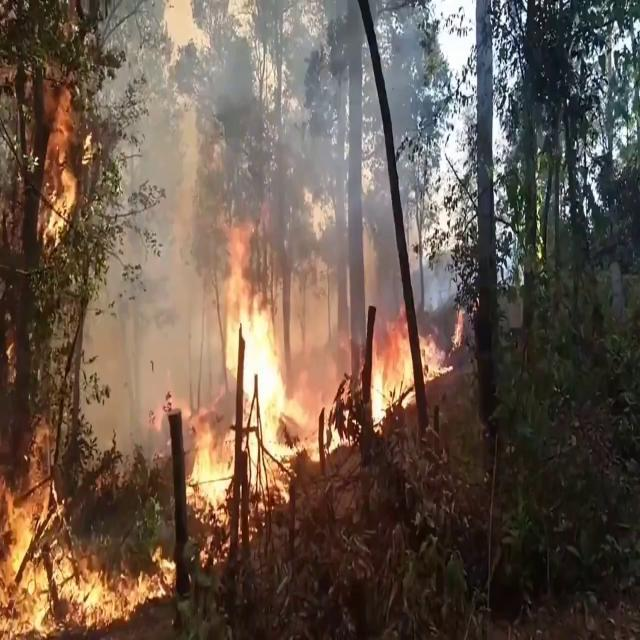Fire: (0, 401, 174, 635), (188, 248, 308, 539), (32, 83, 100, 260), (368, 312, 452, 427)
Smoke: (109, 0, 442, 312)
